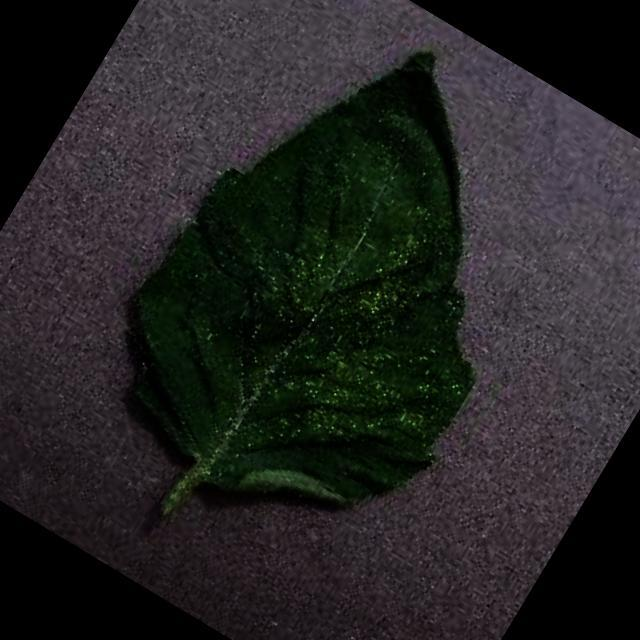Tomato spider mites leaf: (64, 0, 613, 581)
